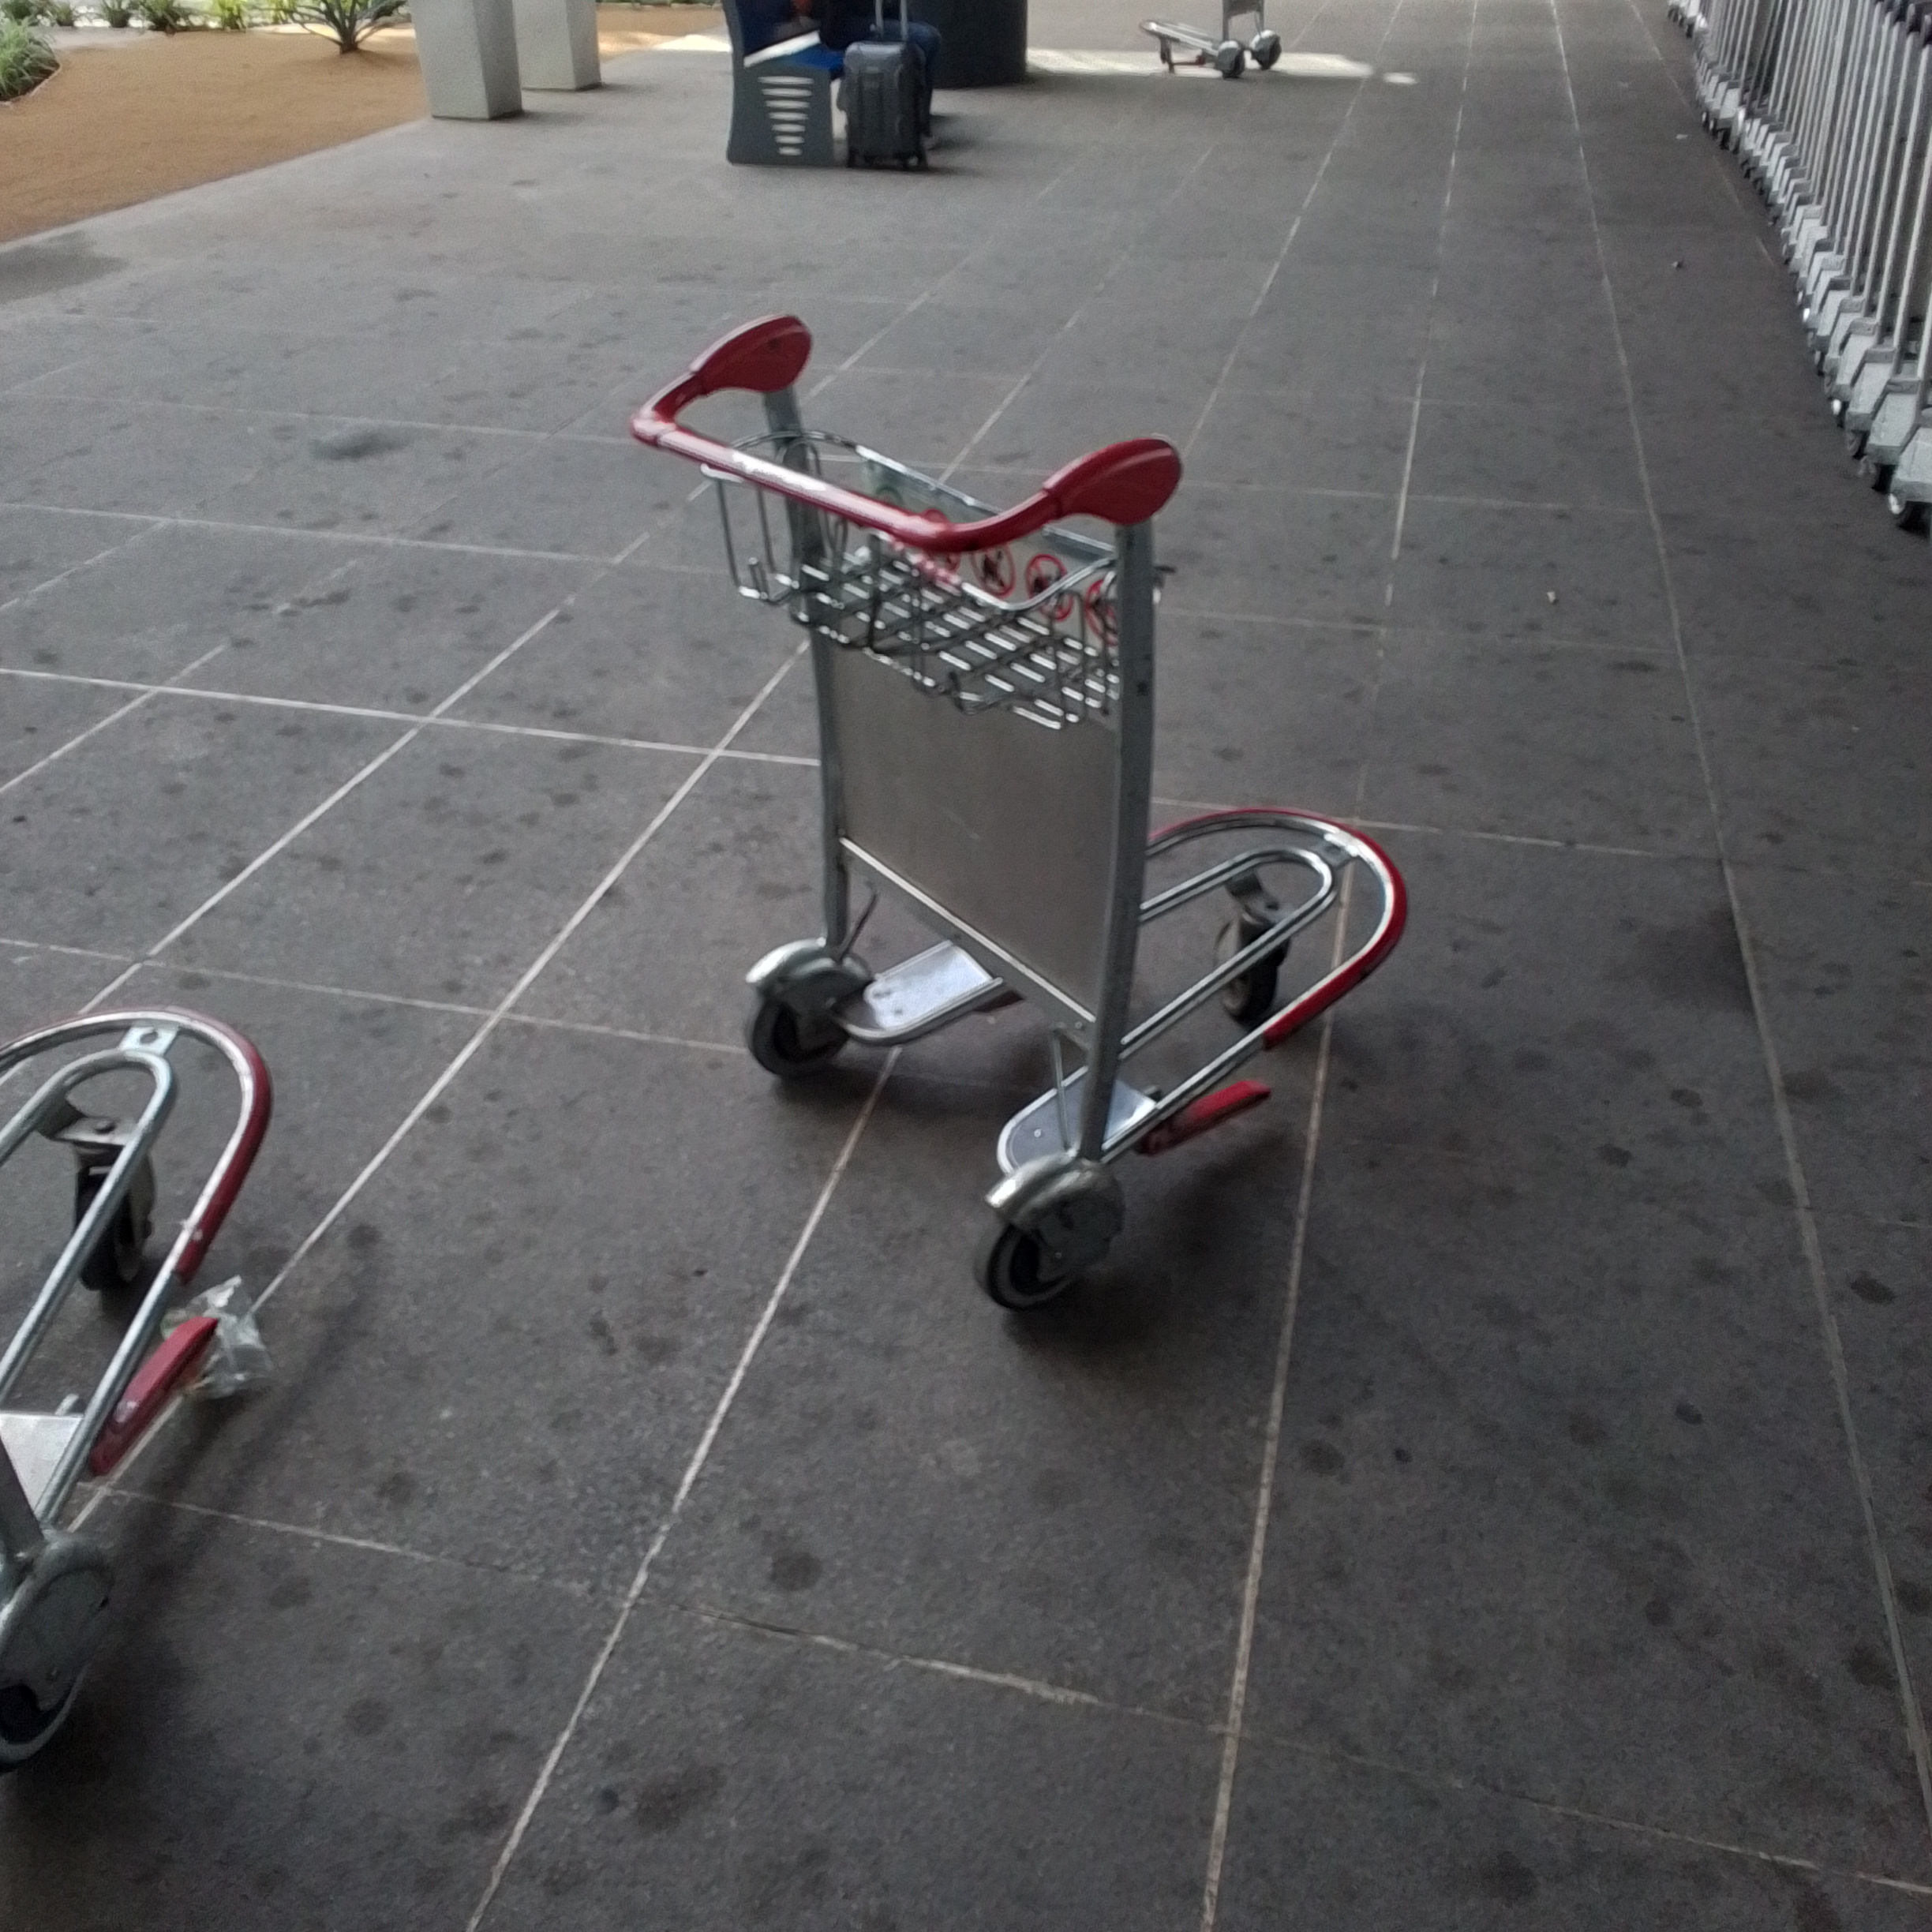airport-trolley: (656, 290, 1426, 1323)
